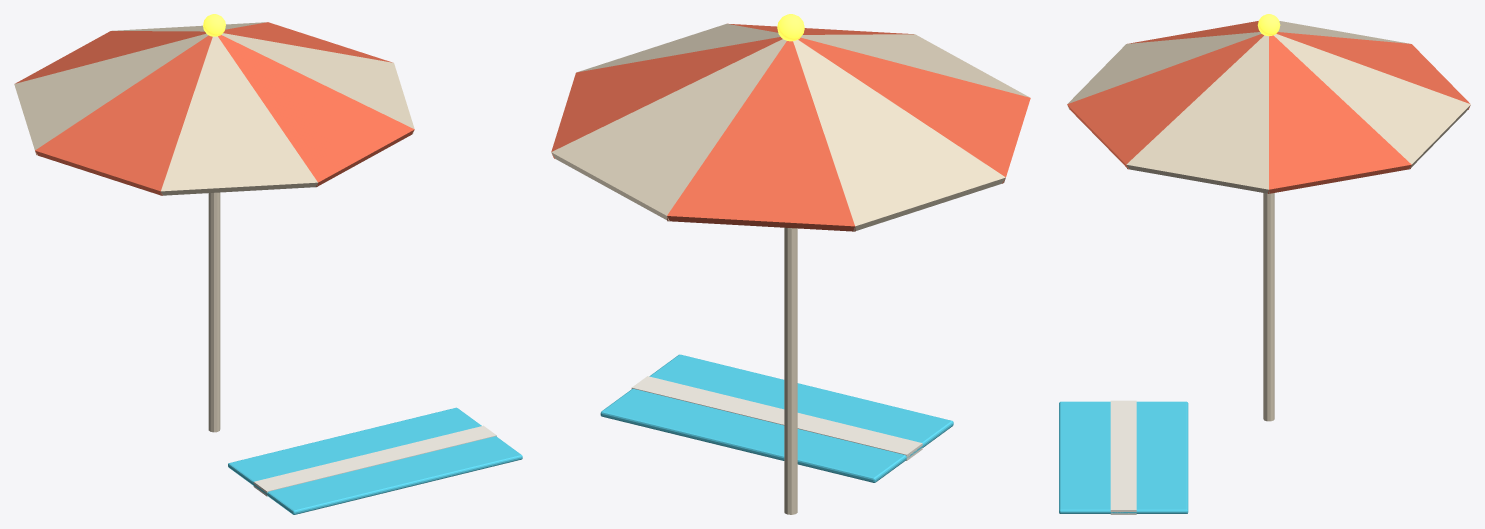
The model's file is beach_umbrella.glb.
3 views of the same model, side by side, from view 1: azimuth 30°, elevation 25°; view 2: azimuth 150°, elevation 25°; view 3: azimuth 270°, elevation 25° (orthographic). The views are drawn at different scales.
Parts seen in each view (by area): view 1: panel5, towel, panel4, panel6, panel3, panel7, towelstripe, pole, panel2, panel0; view 2: panel2, towel, panel3, panel1, panel4, panel0, towelstripe, panel5, pole, panel7, panel6, tip; view 3: panel0, panel7, towel, panel1, panel6, panel2, panel5, towelstripe, pole, panel3, panel4.
Boxes of the visible parts, x1,y1,x2,y2 form: panel5: (160, 36, 317, 195); towel: (228, 407, 522, 514); panel4: (35, 35, 212, 195); panel6: (218, 35, 414, 187); panel3: (14, 33, 208, 155); panel7: (221, 33, 414, 134); towelstripe: (253, 425, 496, 496); pole: (208, 192, 220, 432); panel2: (15, 31, 205, 83); panel0: (223, 22, 392, 62); panel2: (667, 41, 855, 231); towel: (600, 354, 953, 482); panel3: (793, 39, 1005, 231); panel1: (551, 39, 786, 221); panel4: (798, 37, 1030, 183); panel0: (551, 37, 782, 158); towelstripe: (631, 376, 922, 460); panel5: (801, 34, 1029, 97); pole: (784, 227, 797, 514); panel7: (577, 23, 780, 72); panel6: (727, 23, 913, 34); tip: (777, 14, 804, 41); panel0: (1268, 35, 1411, 193); panel7: (1126, 35, 1269, 193); towel: (1059, 401, 1188, 513); panel1: (1274, 34, 1470, 169); panel6: (1067, 34, 1263, 169); panel2: (1276, 32, 1469, 109); panel5: (1067, 32, 1261, 109); towelstripe: (1110, 400, 1136, 514); pole: (1263, 193, 1274, 421); panel3: (1278, 21, 1410, 43); panel4: (1127, 21, 1259, 43).
Size of the model in its own units: 2.65 by 2.76 by 2.55.
